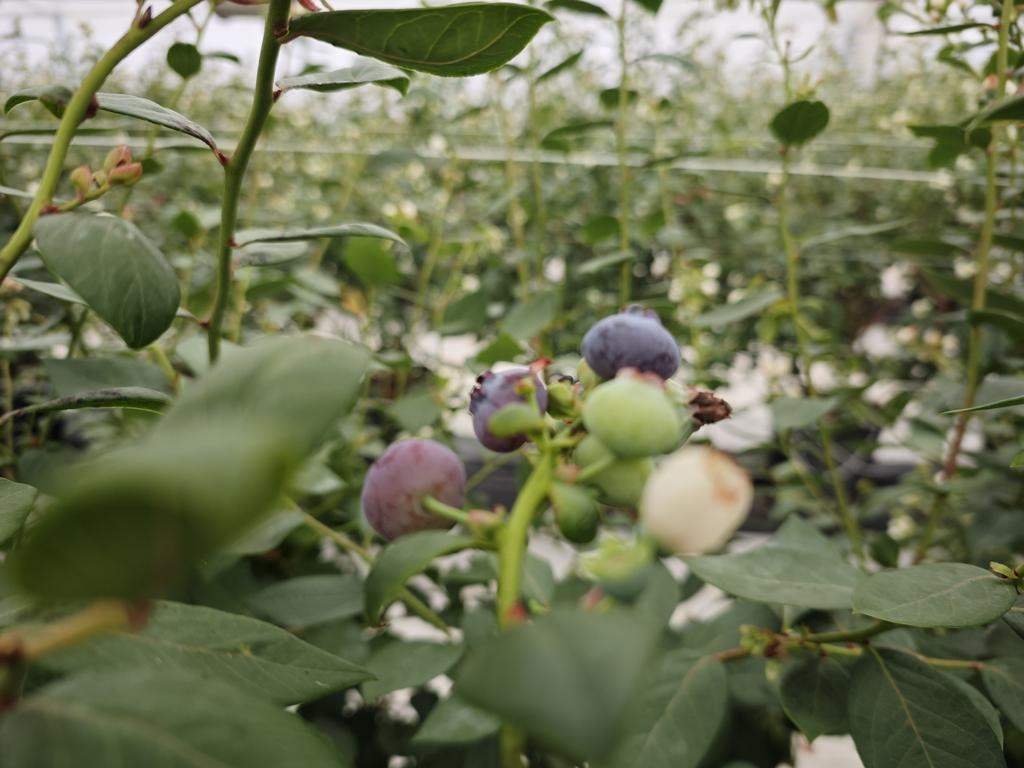RipeBlueBerry: (578, 305, 683, 378)
Semi-RipeBlueBerry: (362, 438, 472, 538), (460, 366, 552, 455)
UnripeBlueBerry: (581, 369, 708, 456)
